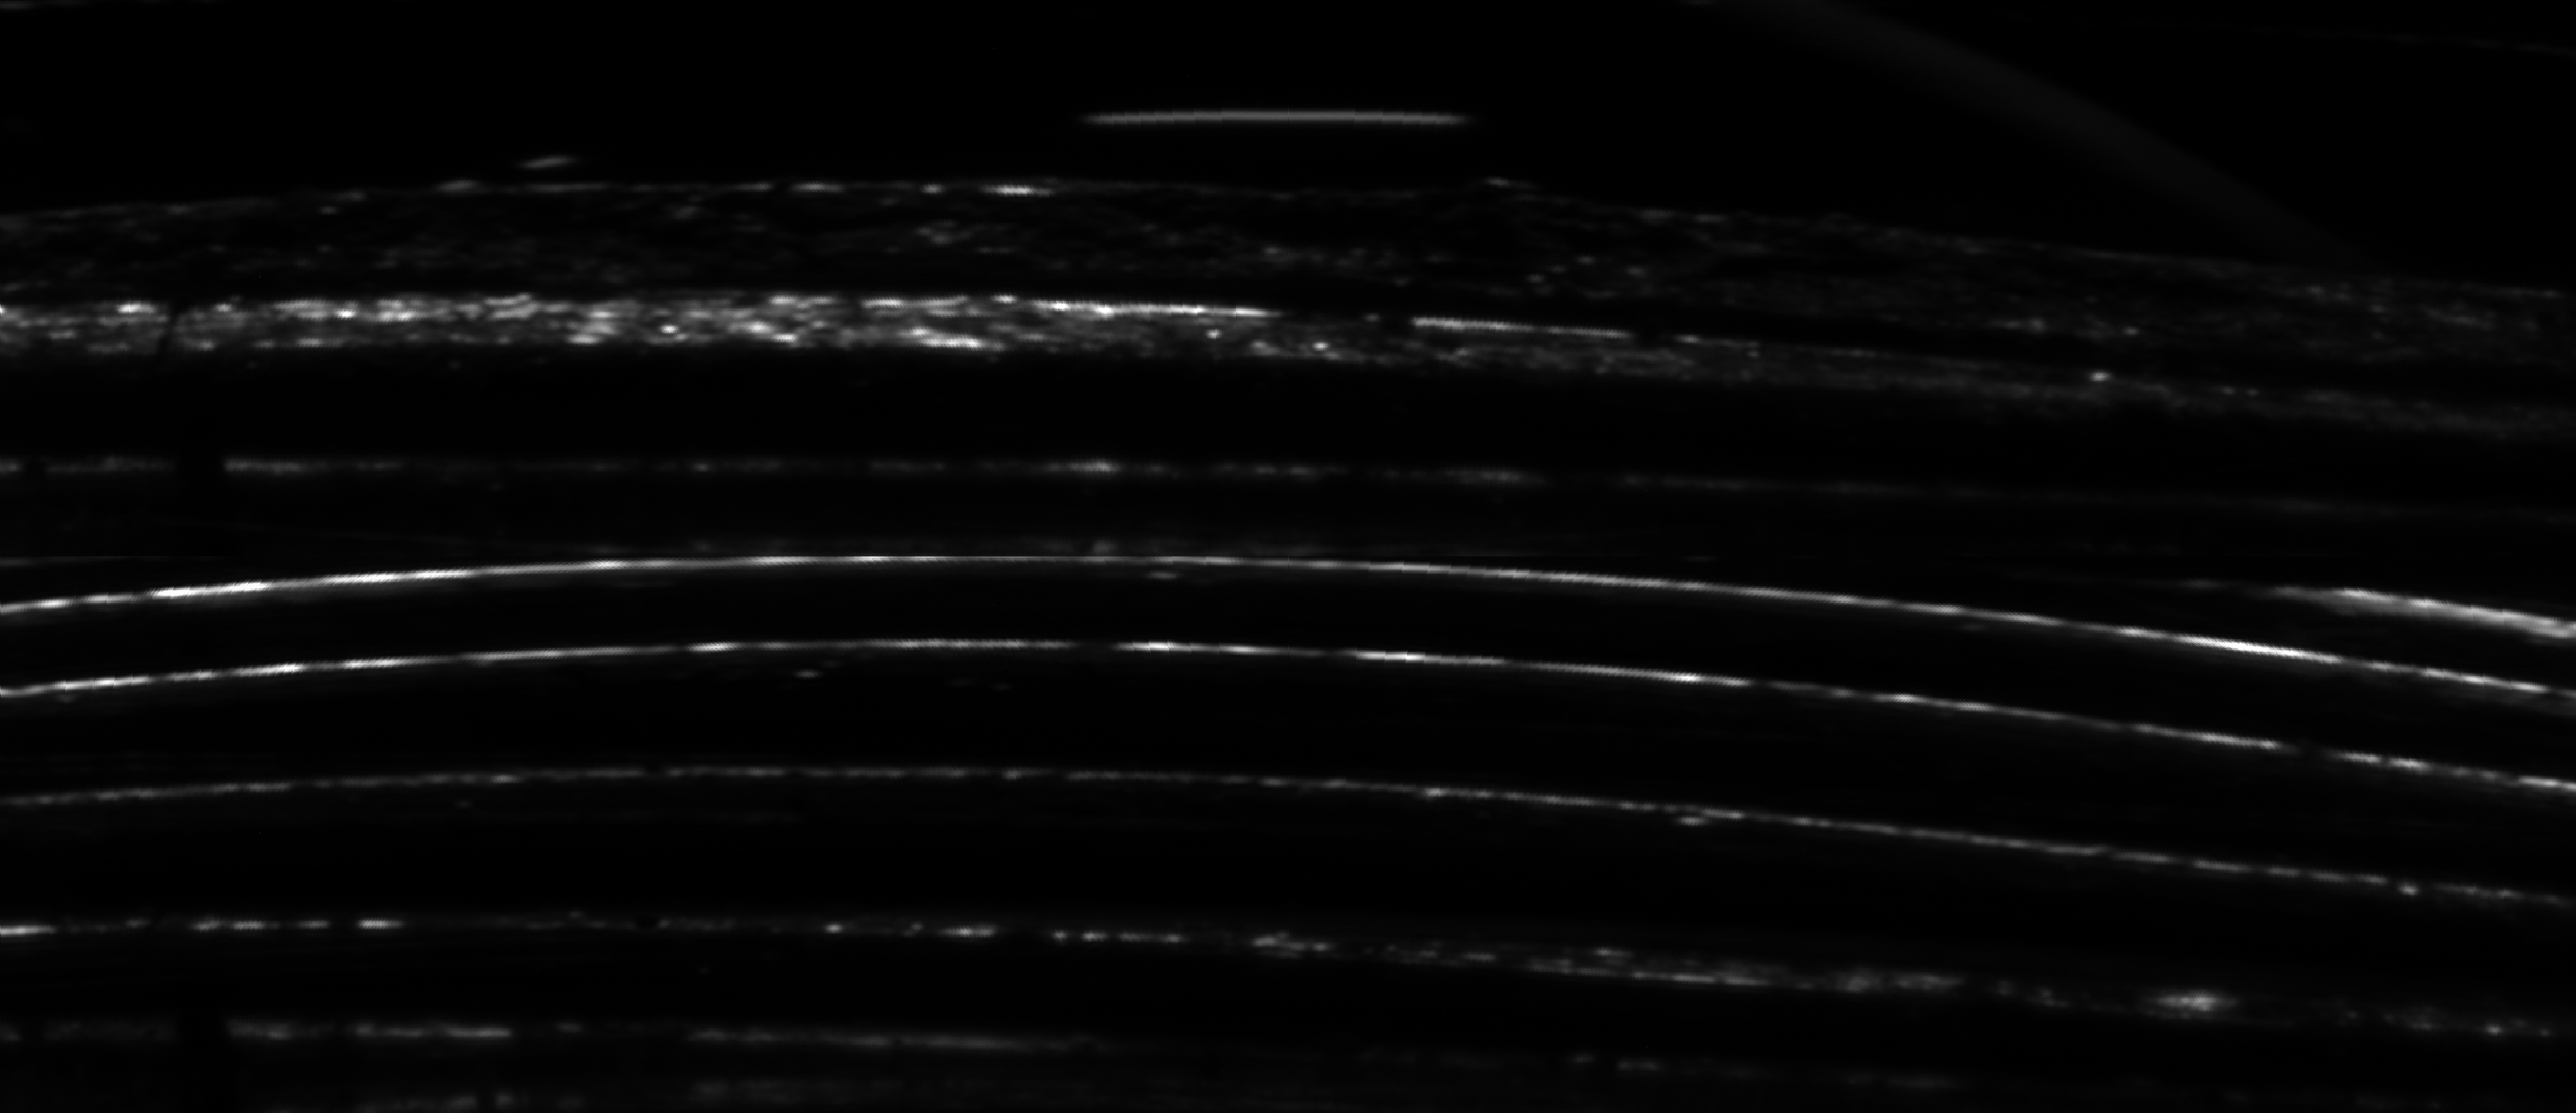extensive chipped: (41, 577, 2573, 1077), (57, 352, 2523, 574)
